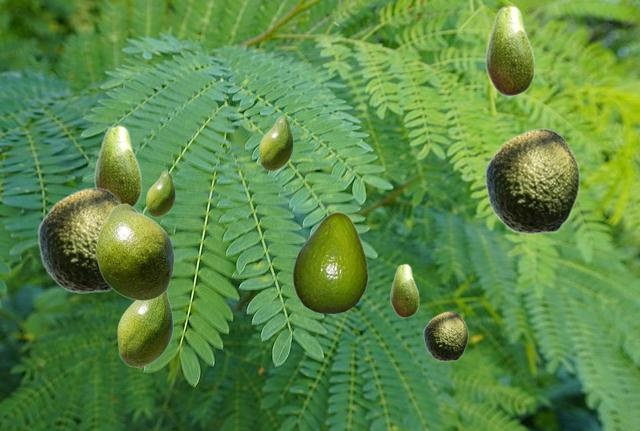avocado: (484, 128, 579, 233), (37, 187, 122, 292), (292, 211, 367, 312), (95, 203, 173, 300), (485, 4, 534, 96), (117, 291, 172, 367), (94, 124, 141, 206), (423, 311, 467, 360), (259, 116, 292, 170), (390, 263, 418, 317), (146, 171, 174, 216)
